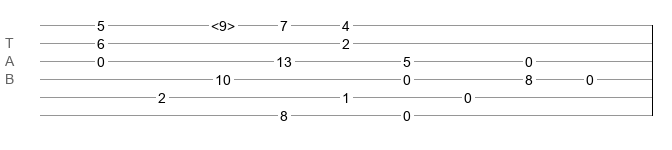0: (97, 54, 105, 64), (403, 108, 411, 118), (403, 72, 411, 82), (464, 90, 472, 100), (525, 54, 533, 64), (586, 72, 594, 82)
1: (342, 90, 350, 100)
10: (215, 72, 231, 82)
13: (276, 54, 292, 64)
2: (158, 90, 166, 100), (342, 36, 350, 46)
4: (342, 18, 350, 28)
5: (97, 18, 105, 28), (403, 54, 411, 64)
6: (97, 36, 105, 46)
7: (280, 18, 288, 28)
8: (280, 108, 288, 118), (525, 72, 533, 82)
harmonic: (211, 18, 235, 28)
